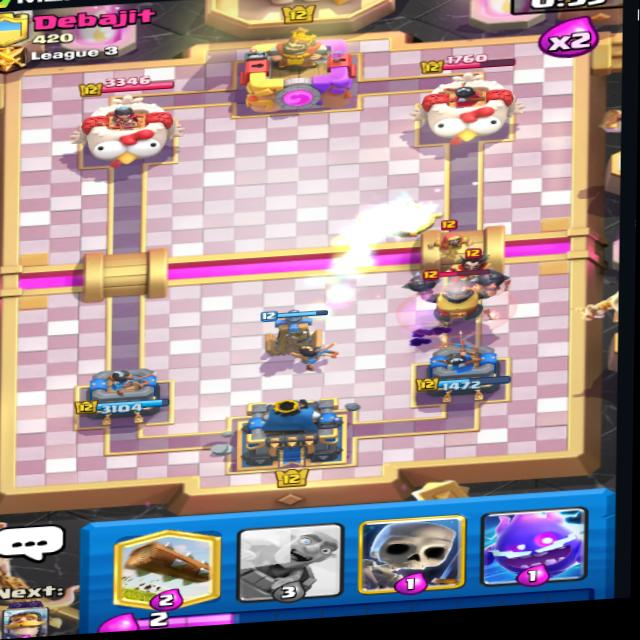Ewiz: (438, 243, 517, 286)
Megaknight: (402, 256, 504, 336)
Wizard: (425, 226, 471, 260)
